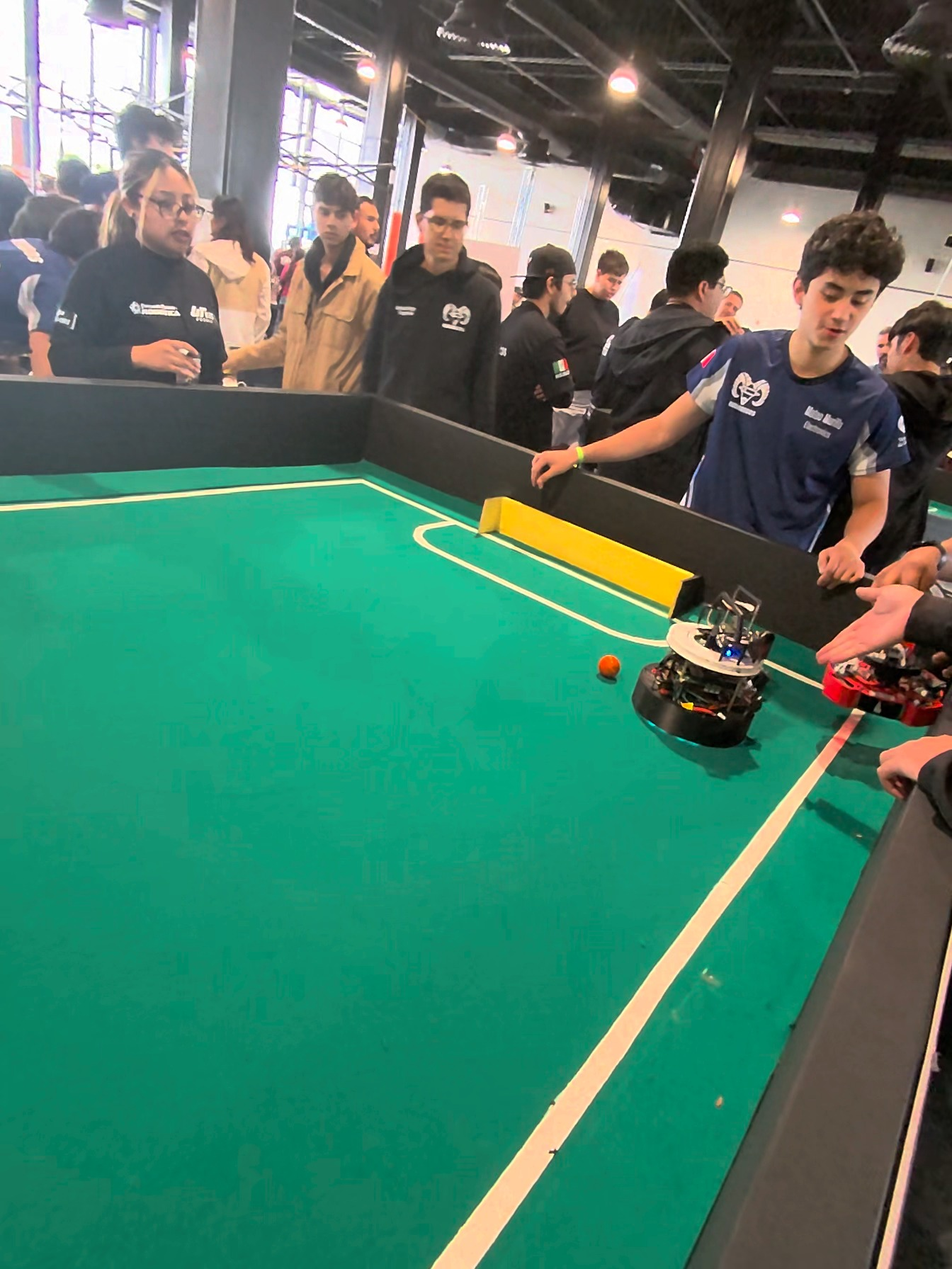Robot: (634, 587, 780, 774), (856, 632, 946, 727)
pelota: (594, 648, 620, 680)
